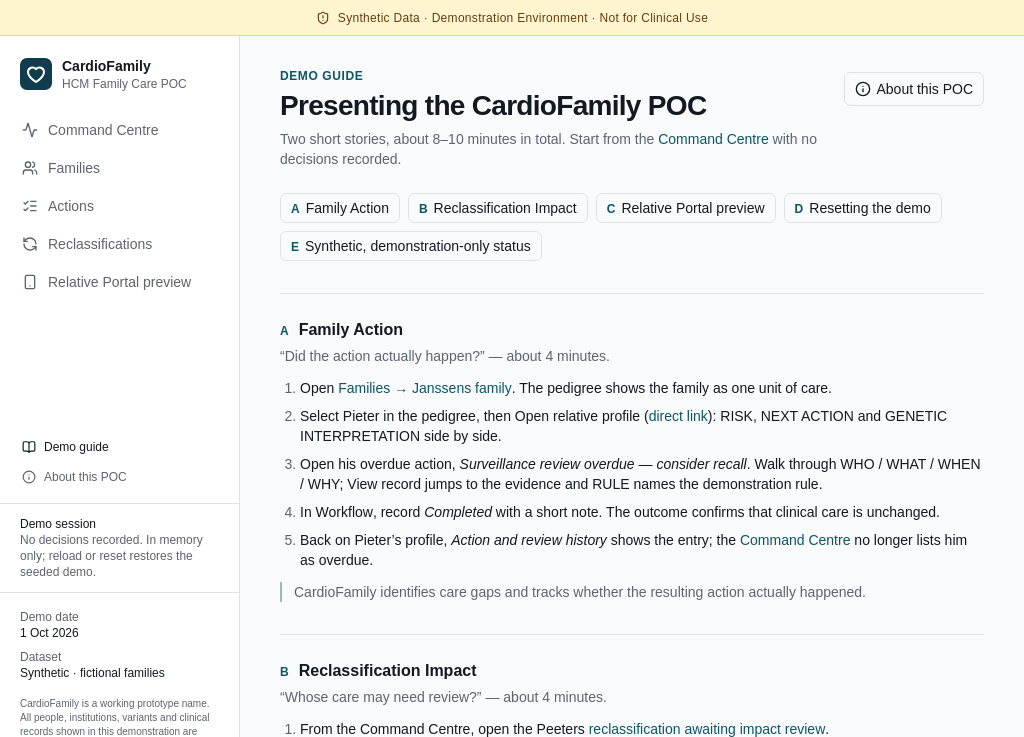
Demo guide › step link “direct link” opens a working page
Click the link "direct link" at (678, 416), box [649,408,708,424]
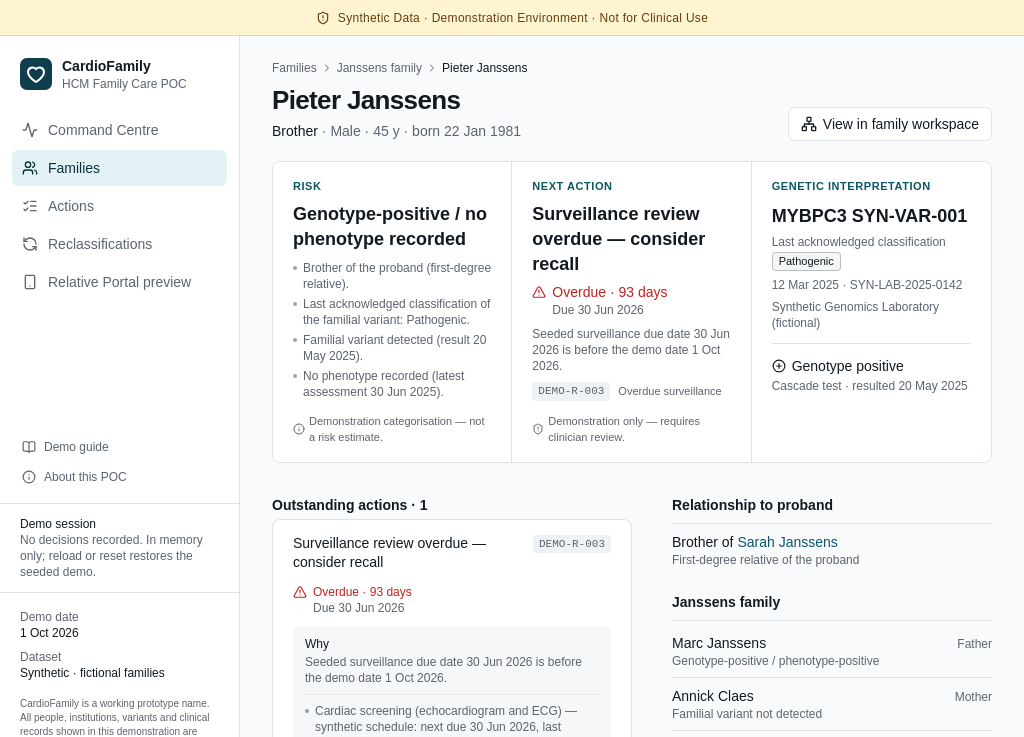
Expected: the heading "Pieter Janssens" is shown, [272,85,460,115]
